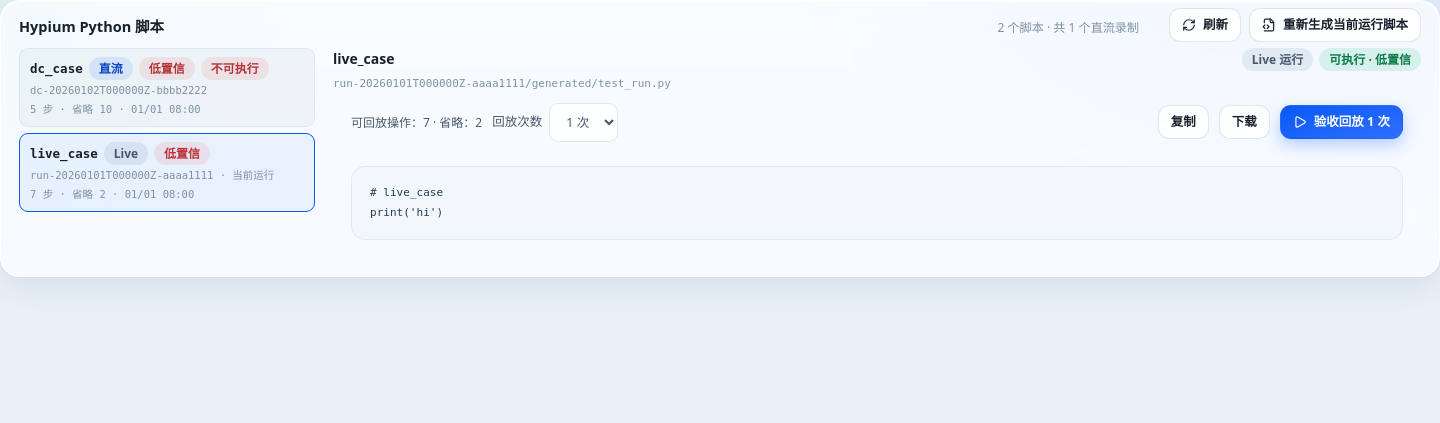
it: ScriptPanel 脚本库 › 点击列表项切换到对应脚本源码
Click the option "dc_case": (167, 88) 19,48 -> 315,127
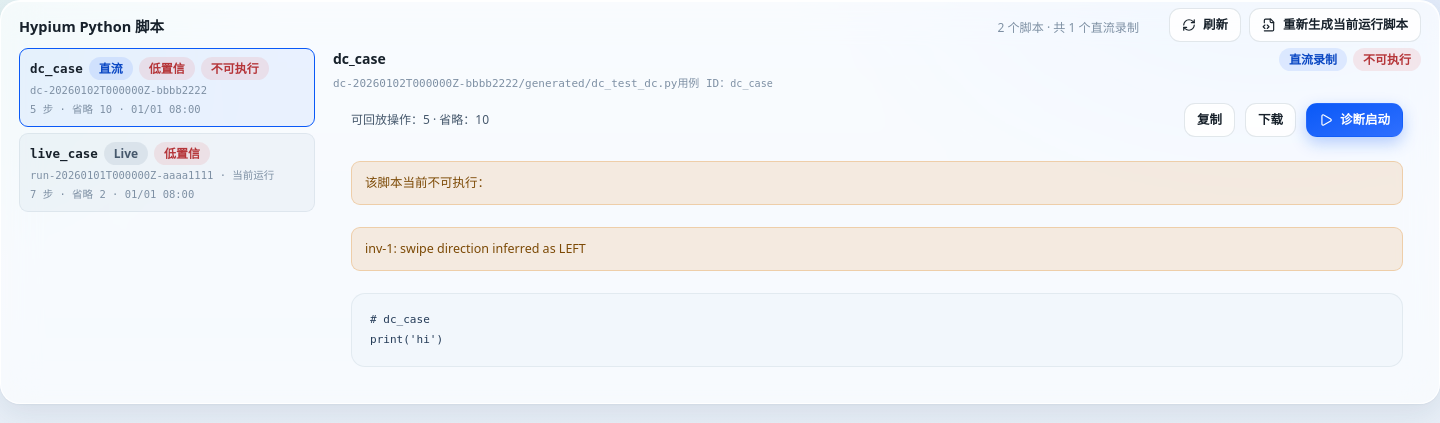
Now the text "# dc_case print('hi')" is shown, box 370,313 -> 443,346
